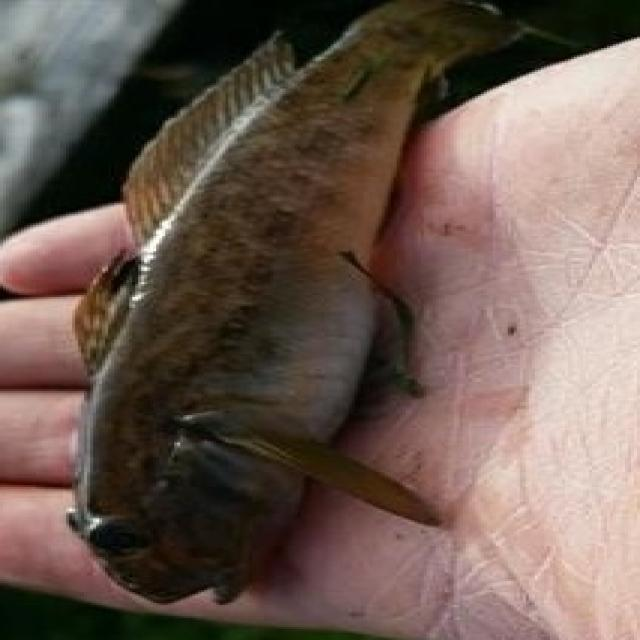Goby: (11, 0, 640, 625)
